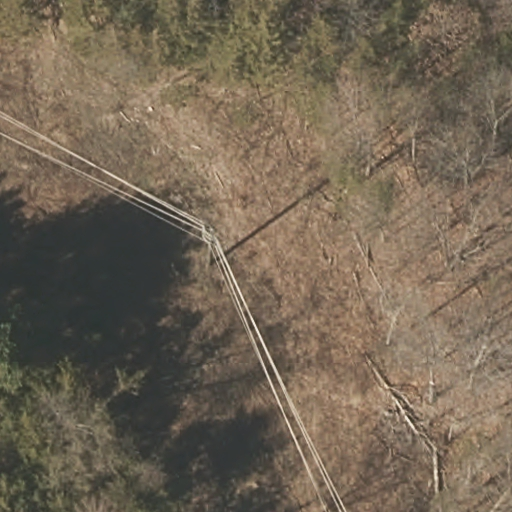DT: (195, 216, 227, 249)
